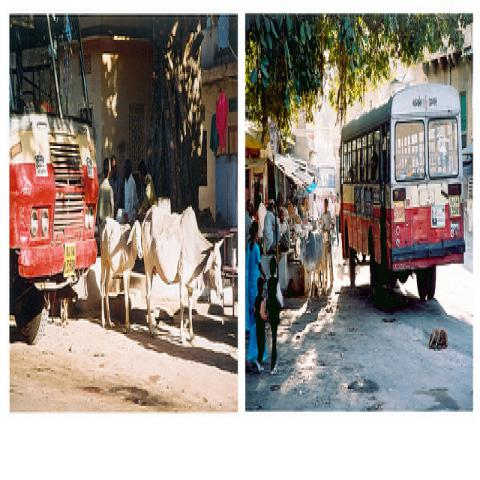bus: (8, 16, 100, 348), (340, 86, 466, 301)
